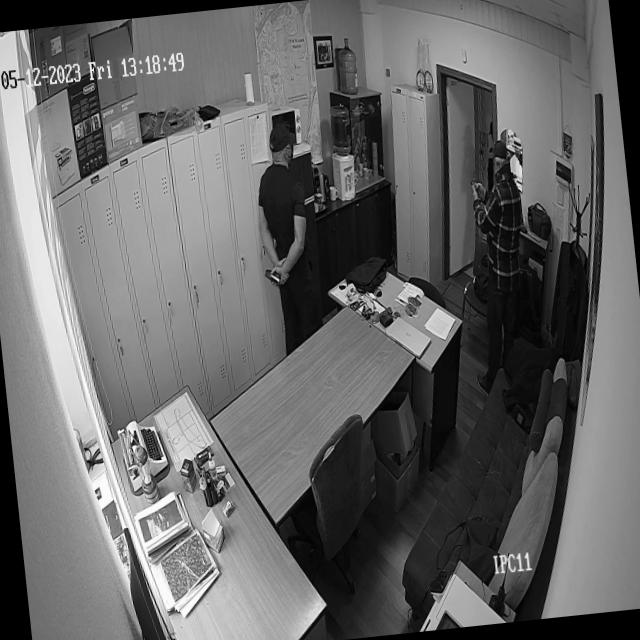person: (450, 136, 542, 402), (248, 120, 323, 360)
